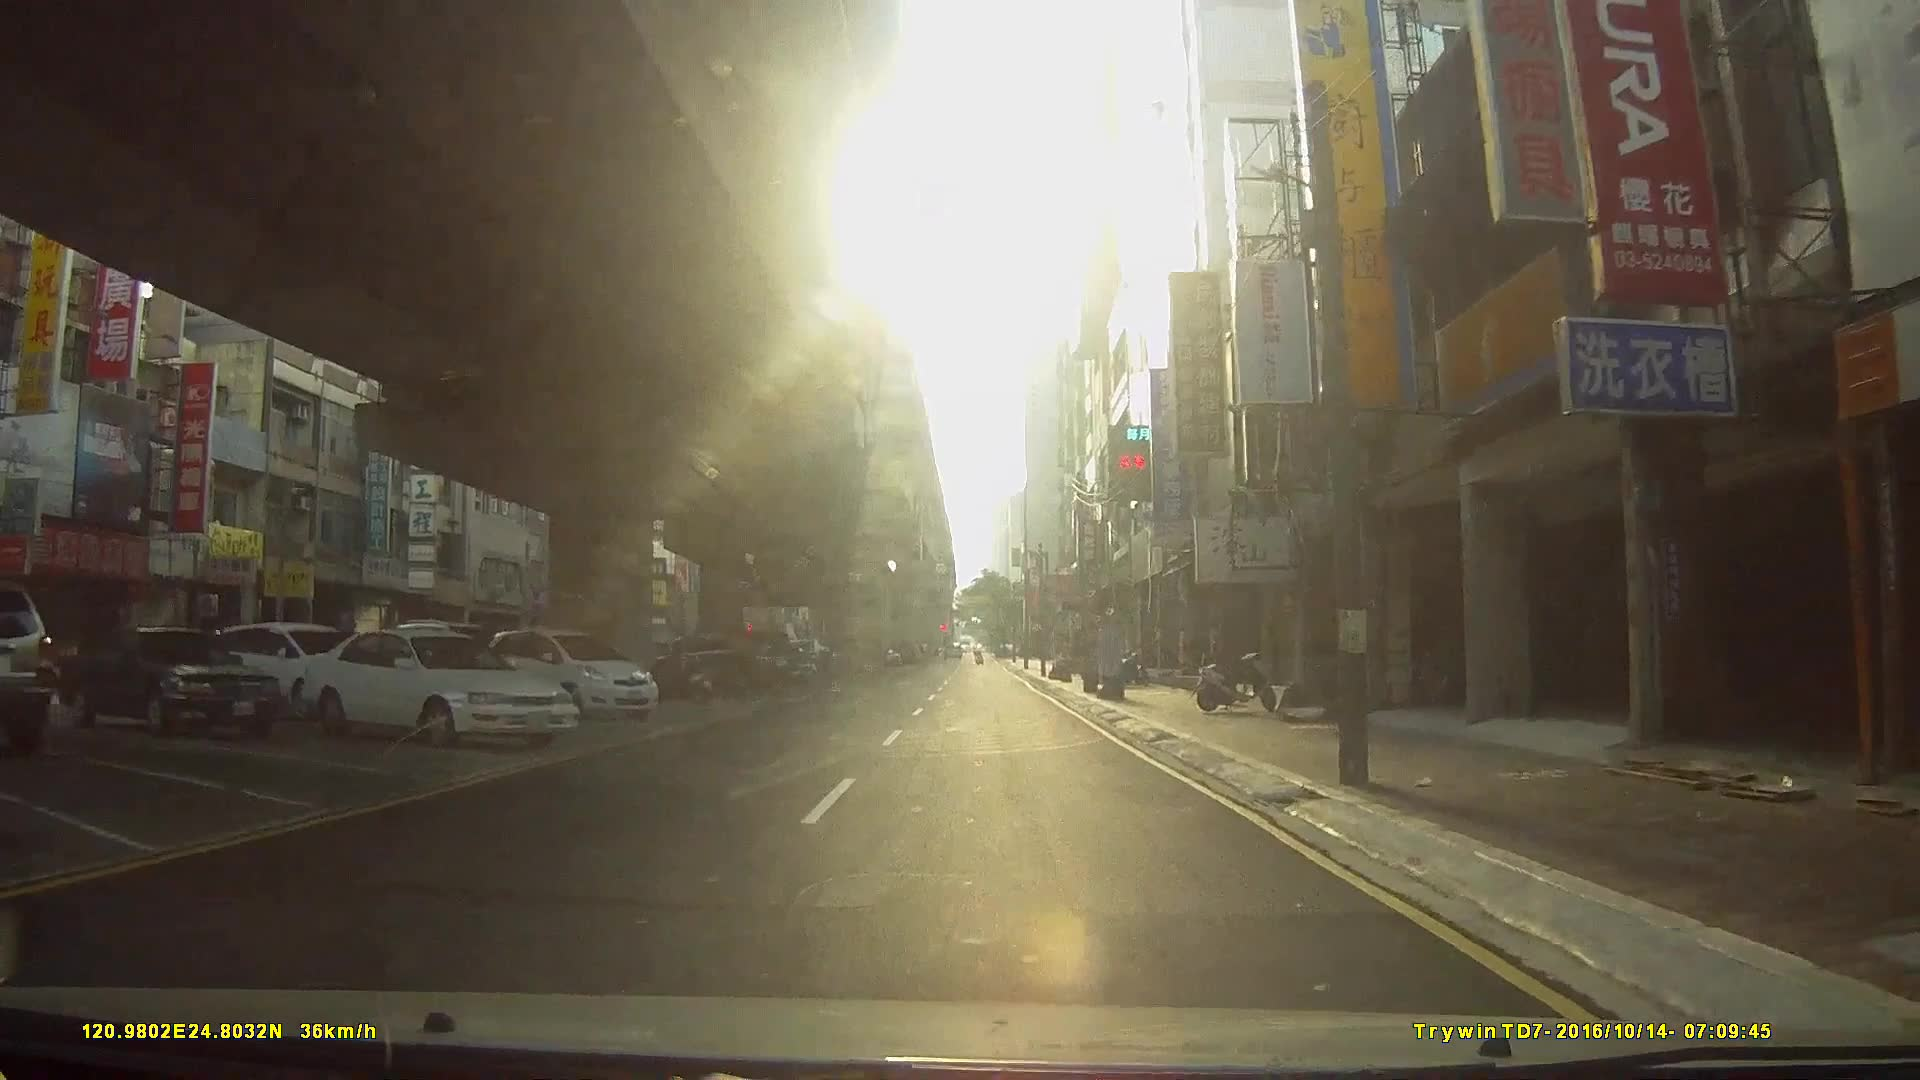vehicle: (295, 625, 576, 746), (55, 624, 284, 732), (483, 624, 658, 719), (210, 621, 363, 717), (0, 579, 54, 752)
